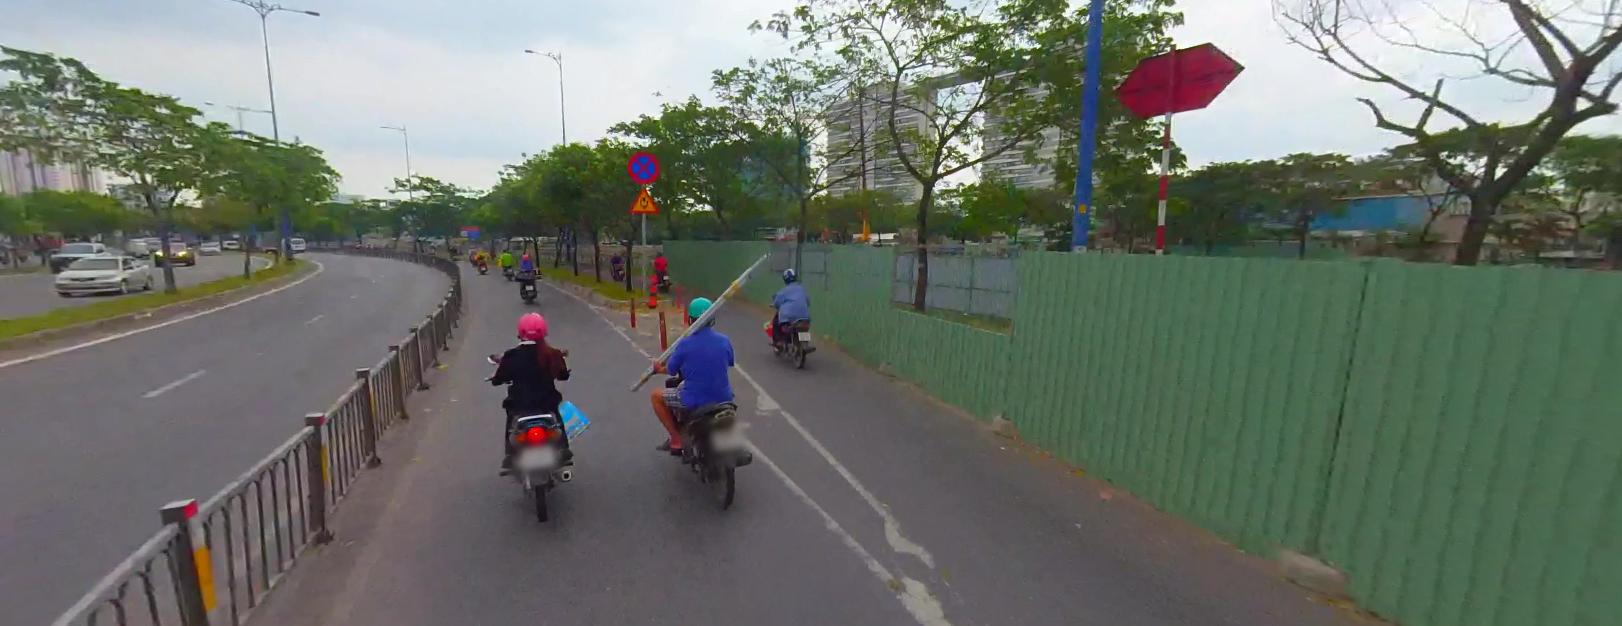Cam dung va do: (627, 151, 659, 182)
Nguy hiem: (627, 186, 659, 211)
